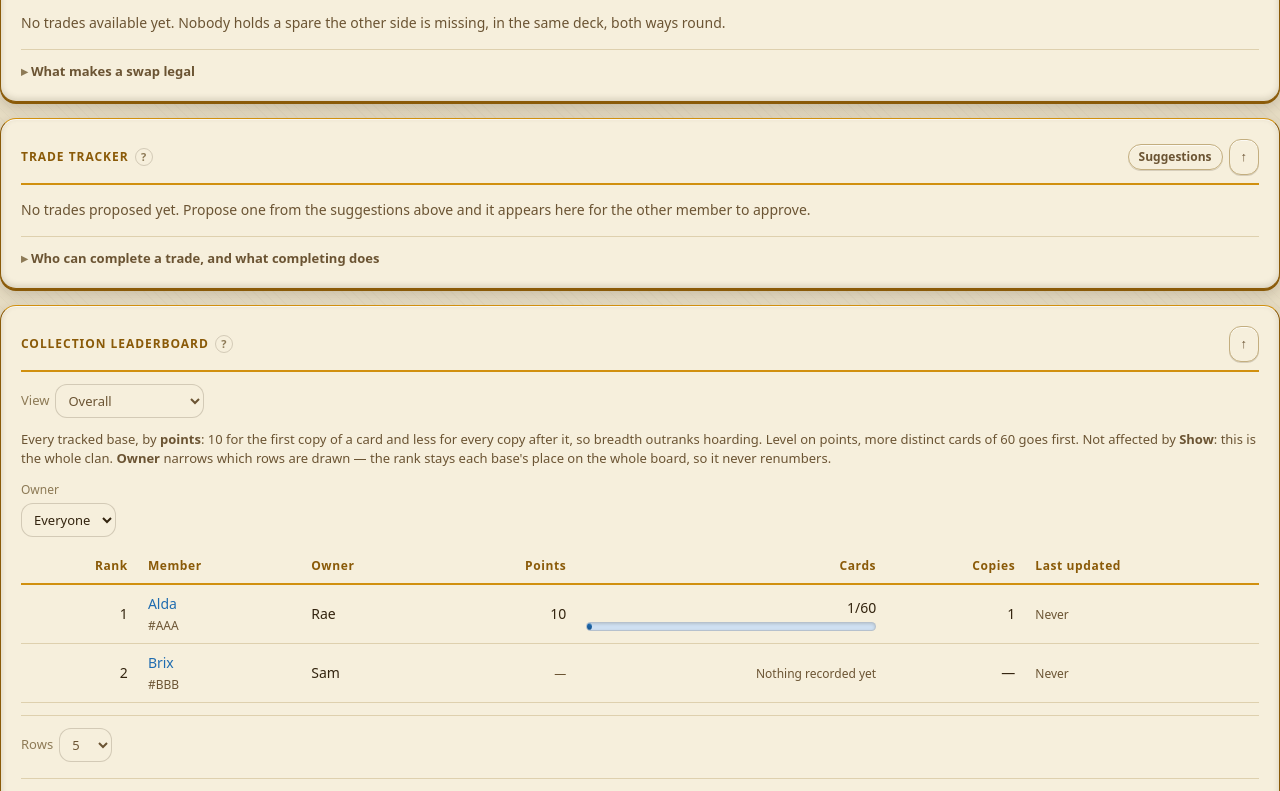
Test: the leaderboard view picker › switches to a different board’s own table and columns
(page scrolled)
Step 1. Select "Rarity" in the dropdown labelled "View" → (130,401), box [56,384,204,418]
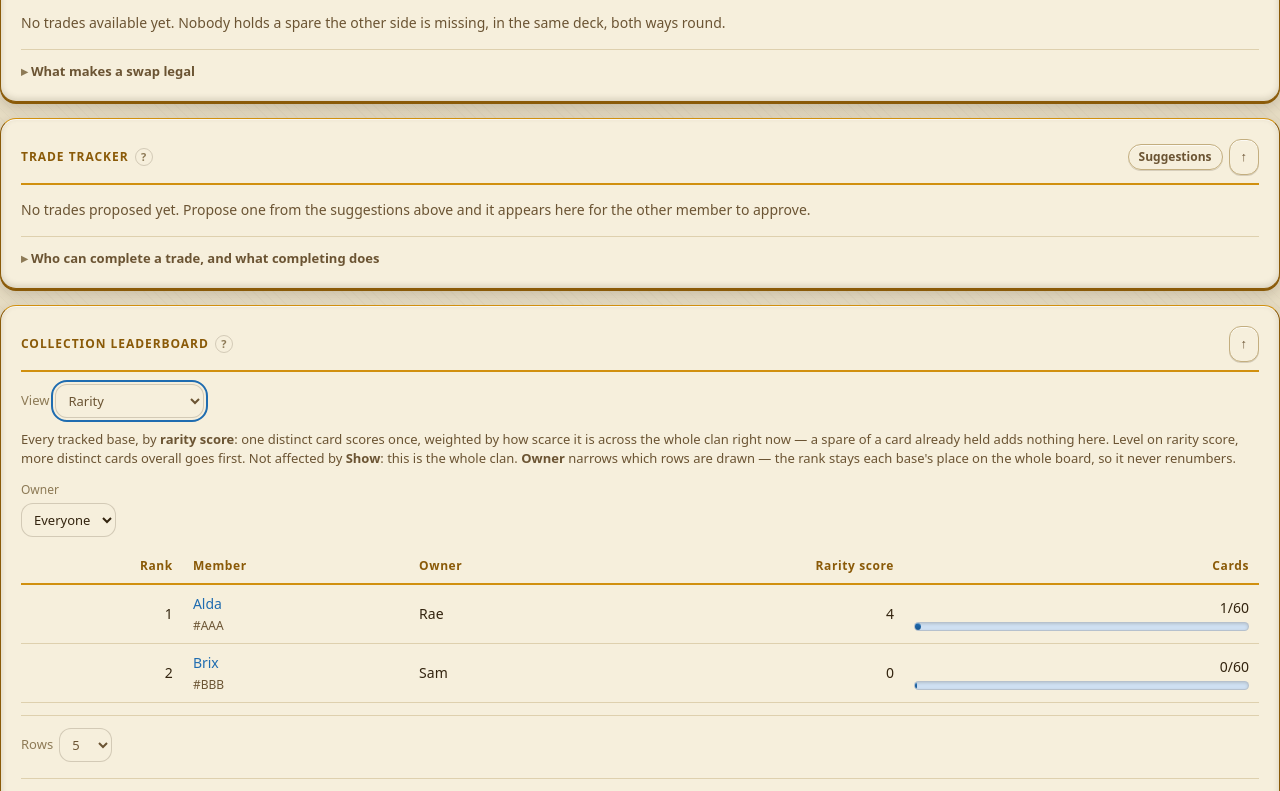
Now the column heading "Rarity score" is shown, box [603,549,904,584]
